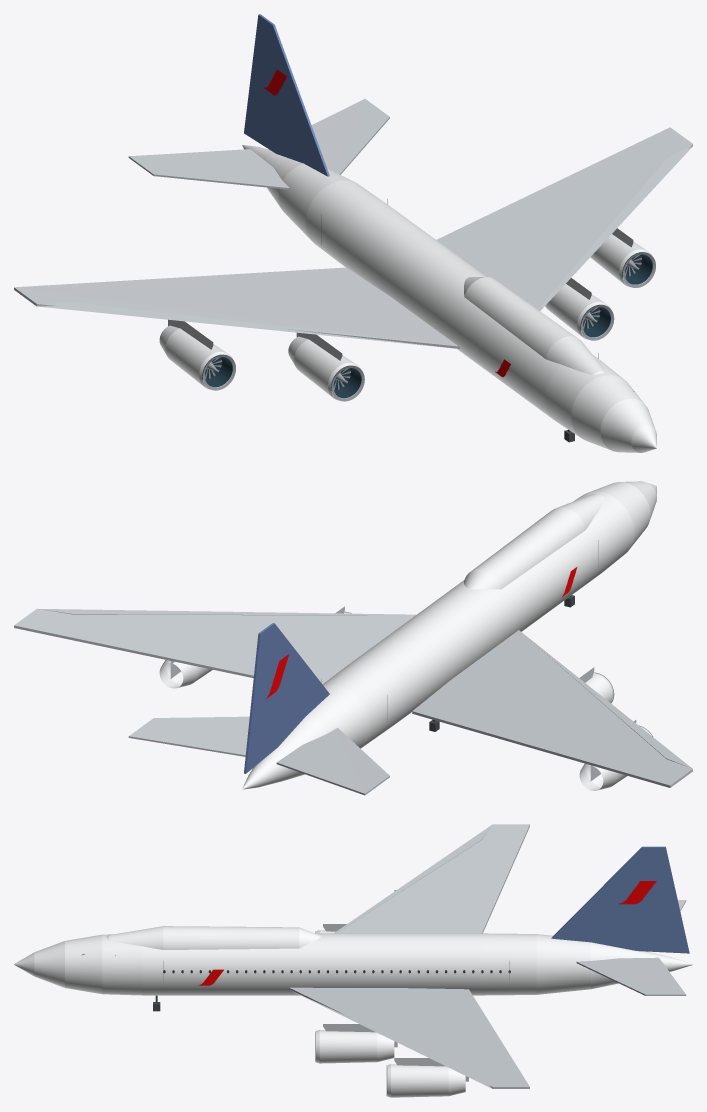
The model's file is b747-AFR-v2.gltf.
3 renders of one model, top to bottom at view 1: azimuth 30°, elevation 25°; view 2: azimuth 150°, elevation 25°; view 3: azimuth 270°, elevation 25°, orthographic. The views are drawn at different scales.
Visible parts, largest first — view 1: object 1; view 2: object 1; view 3: object 1.
Part boxes in pixels (x1,y1,x2,y2): object 1: [14, 14, 692, 452]; object 1: [14, 481, 692, 795]; object 1: [14, 824, 692, 1097].
Bounding box in the file's own units: 65 × 19.04 × 71.
Materials: 7 (1 with a texture image).
